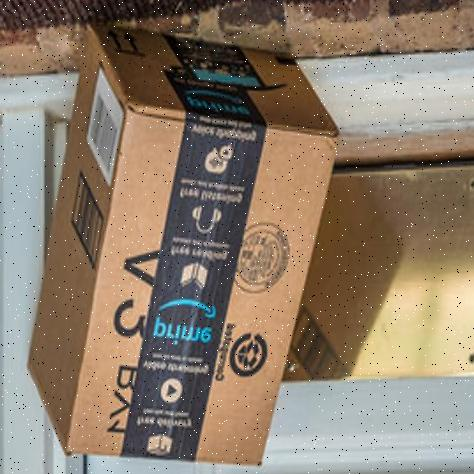Amazon: (23, 22, 346, 470)
